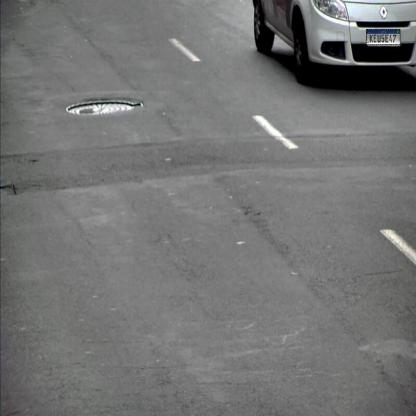PlacaM: (366, 29, 400, 45)
